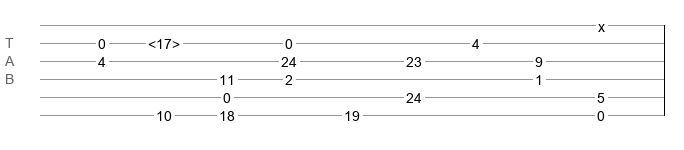0: (98, 36, 106, 46), (223, 90, 231, 100), (285, 36, 293, 46), (597, 108, 605, 118)
1: (535, 72, 543, 82)
10: (156, 108, 172, 118)
11: (219, 72, 235, 82)
18: (219, 108, 235, 118)
19: (344, 108, 360, 118)
2: (285, 72, 293, 82)
23: (406, 54, 422, 64)
24: (281, 54, 297, 64), (406, 90, 422, 100)
4: (98, 54, 106, 64), (472, 36, 480, 46)
5: (597, 90, 605, 100)
9: (535, 54, 543, 64)
harmonic: (148, 36, 180, 46)
x: (598, 19, 605, 27)
